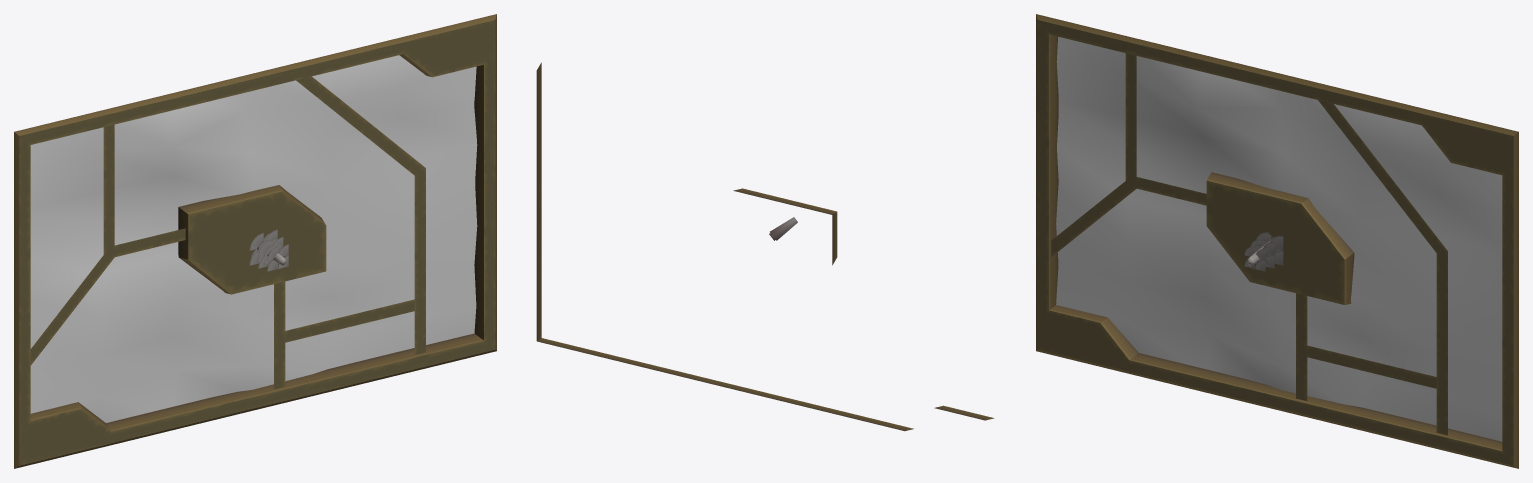
File: shocktrench_6x4.glb
3 views of the same model, side by side, from view 1: azimuth 30°, elevation 25°; view 2: azimuth 150°, elevation 25°; view 3: azimuth 330°, elevation 25° (orthographic).
Parts seen in each view (by area): view 1: shock_trenches.shocktrench_6x4-MeshNodes["shock_trench_6x4_w, shock_trenches.shocktrench_6x4-MeshNodes["shock_trench_6x4"], shock_trenches.transformer-Mesh[0]; view 2: shock_trenches.shocktrench_6x4-MeshNodes["shock_trench_6x4"]; view 3: shock_trenches.shocktrench_6x4-MeshNodes["shock_trench_6x4_w, shock_trenches.shocktrench_6x4-MeshNodes["shock_trench_6x4"], shock_trenches.transformer-Mesh[0].
Boxes of the visible parts, x1,y1,x2,y2 form: shock_trenches.shocktrench_6x4-MeshNodes["shock_trench_6x4_w: (30,55,477,422); shock_trenches.shocktrench_6x4-MeshNodes["shock_trench_6x4"]: (14,14,496,468); shock_trenches.transformer-Mesh[0]: (249,229,288,271); shock_trenches.shocktrench_6x4-MeshNodes["shock_trench_6x4"]: (536,62,994,431); shock_trenches.shocktrench_6x4-MeshNodes["shock_trench_6x4_w: (1056,37,1502,441); shock_trenches.shocktrench_6x4-MeshNodes["shock_trench_6x4"]: (1036,14,1518,468); shock_trenches.transformer-Mesh[0]: (1244,232,1283,271).
Bounding box in the file's own units: 6.01 × 4.01 × 0.8186.
4 materials, 3 textured.
